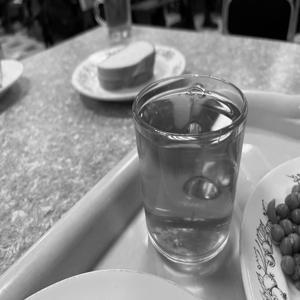bread: (97, 42, 164, 93)
tea: (121, 66, 258, 278)
